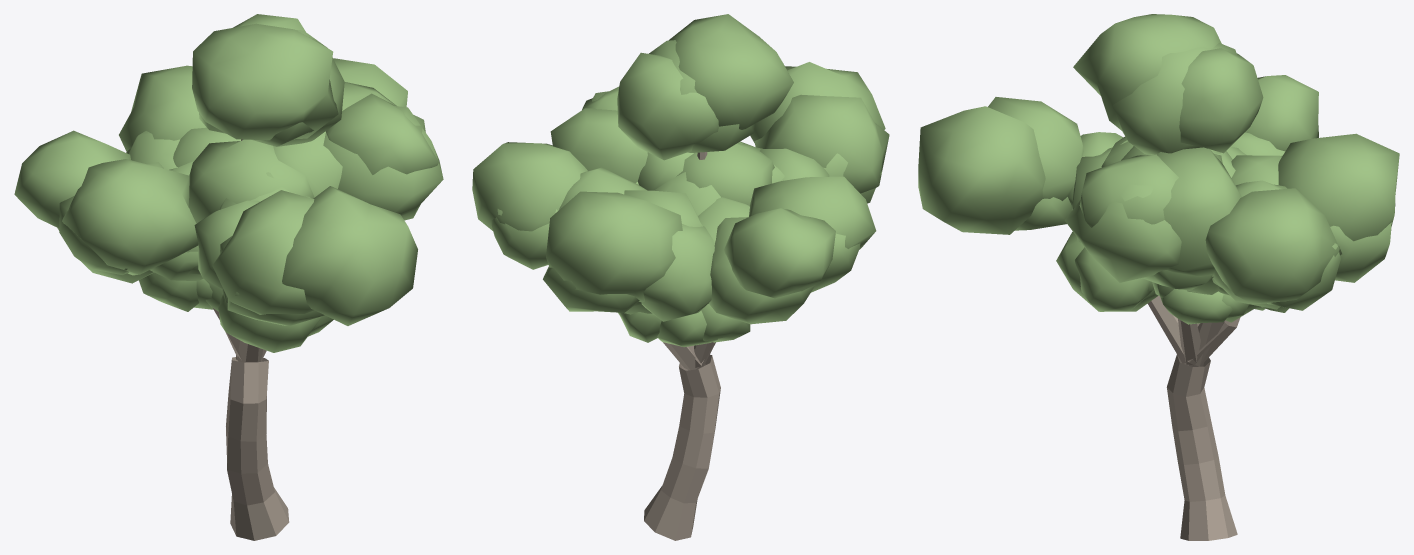
The model's file is Blender_BlackOak_1.glb.
3 renders of one model, left to right at view 1: azimuth 30°, elevation 25°; view 2: azimuth 150°, elevation 25°; view 3: azimuth 270°, elevation 25°, orthographic. The views are drawn at different scales.
Parts seen in each view (by area): view 1: Blender_BlackOak_1; view 2: Blender_BlackOak_1; view 3: Blender_BlackOak_1.
Boxes of the visible parts, <box> form: Blender_BlackOak_1: <box>14,14,443,540</box>; Blender_BlackOak_1: <box>472,14,889,540</box>; Blender_BlackOak_1: <box>918,14,1399,540</box>.
Size of the model in its own units: 13.22 by 17.74 by 15.09.
